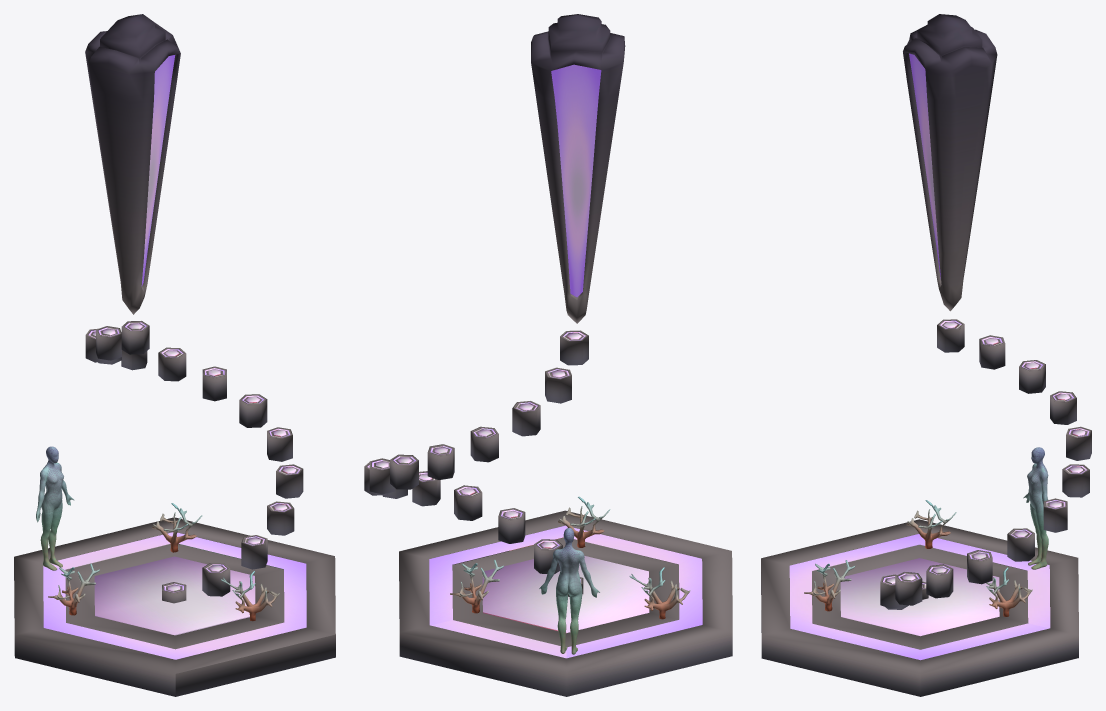
The model's file is synthwave_monolith_scene.glb.
3 views of the same model, side by side, from view 1: azimuth 30°, elevation 25°; view 2: azimuth 150°, elevation 25°; view 3: azimuth 270°, elevation 25° (orthographic). The views are drawn at different scales.
Parts seen in each view (by area): view 1: Object_4, Object_5, Object_2, Object_3; view 2: Object_4, Object_5, Object_2, Object_3; view 3: Object_4, Object_5, Object_3, Object_2.
Part boxes in pixels (left/top/right/bottom): Object_4: left=14, top=14, right=335, bottom=696; Object_5: left=43, top=55, right=306, bottom=659; Object_2: left=36, top=446, right=74, bottom=570; Object_3: left=48, top=503, right=279, bottom=621; Object_4: left=364, top=14, right=732, bottom=696; Object_5: left=367, top=64, right=702, bottom=658; Object_2: left=539, top=528, right=599, bottom=654; Object_3: left=450, top=496, right=690, bottom=619; Object_4: left=761, top=14, right=1091, bottom=696; Object_5: left=789, top=53, right=1089, bottom=660; Object_3: left=804, top=500, right=1032, bottom=616; Object_2: left=1023, top=447, right=1048, bottom=569.
Size of the model in its own units: 222 by 394 by 201.
4 materials, 4 textured.
